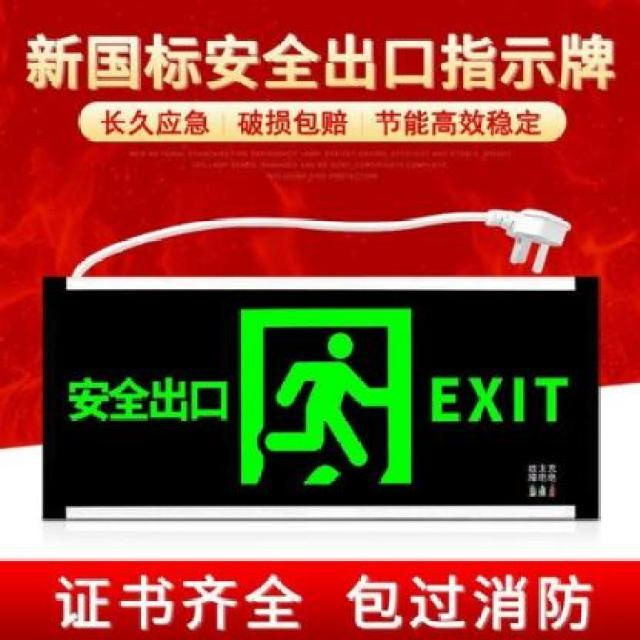exit_sign: (52, 291, 578, 507)
